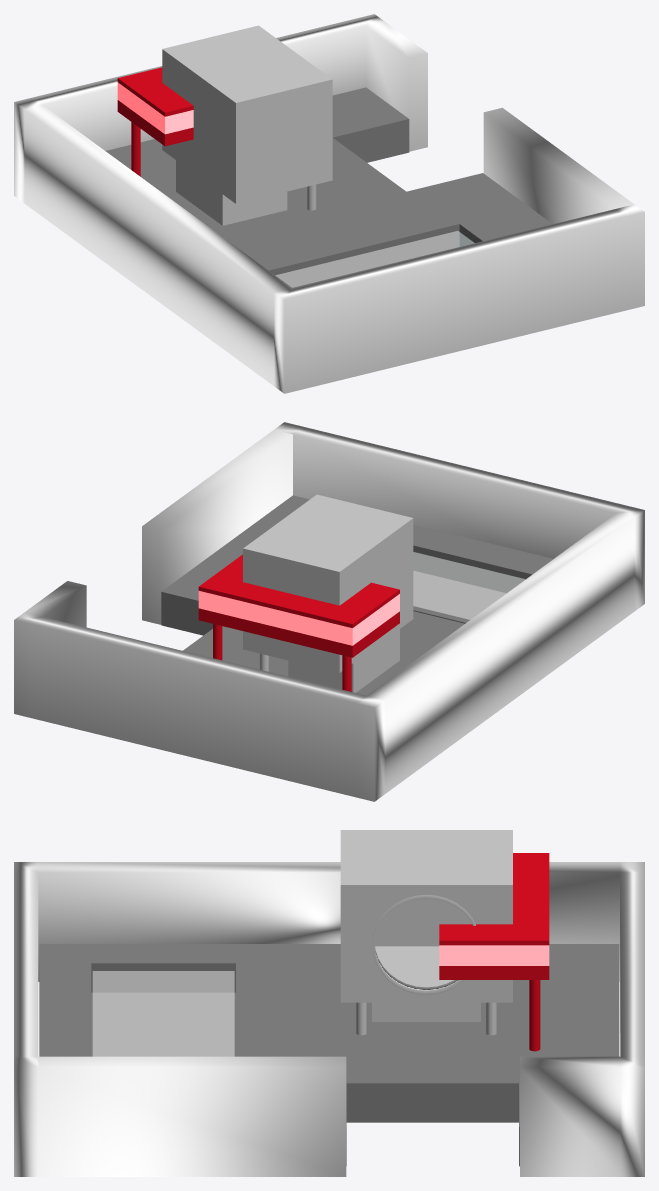
File: yeezus-mansion.glb
The picture shows the model from 3 angles, top to bottom: view 1: azimuth 30°, elevation 25°; view 2: azimuth 150°, elevation 25°; view 3: azimuth 270°, elevation 25°; orthographic projection. The views are drawn at different scales.
Visible parts, largest first — view 1: Fence, Base, House, RedFloor, Water, LowerFloor, Cube; view 2: Fence, House, Base, RedFloor, Water, LowerFloor, Cube; view 3: Fence, Base, House, Water, Cube, RedFloor, LowerFloor, Glass, TallPoleFront.
Part boxes in pixels (x1,y1,x2,y2): Fence: (14, 14, 644, 393); Base: (105, 87, 552, 287); House: (162, 25, 332, 203); RedFloor: (117, 67, 193, 146); Water: (276, 231, 473, 287); LowerFloor: (176, 160, 287, 225); Cube: (332, 138, 405, 201); Fence: (14, 422, 644, 801); House: (243, 494, 413, 672); Base: (161, 495, 553, 695); RedFloor: (198, 554, 399, 657); Water: (413, 552, 525, 619); LowerFloor: (288, 629, 399, 692); Cube: (183, 626, 242, 660); Fence: (14, 862, 644, 1176); Base: (39, 944, 619, 1166); House: (340, 830, 512, 1002); Water: (93, 971, 234, 1056); Cube: (346, 1060, 518, 1122); RedFloor: (439, 853, 549, 979); LowerFloor: (372, 1002, 480, 1021); Glass: (372, 895, 475, 994); TallPoleFront: (529, 980, 540, 1051).
Bounding box in the file's own units: 22.41 × 9.88 × 29.12.
